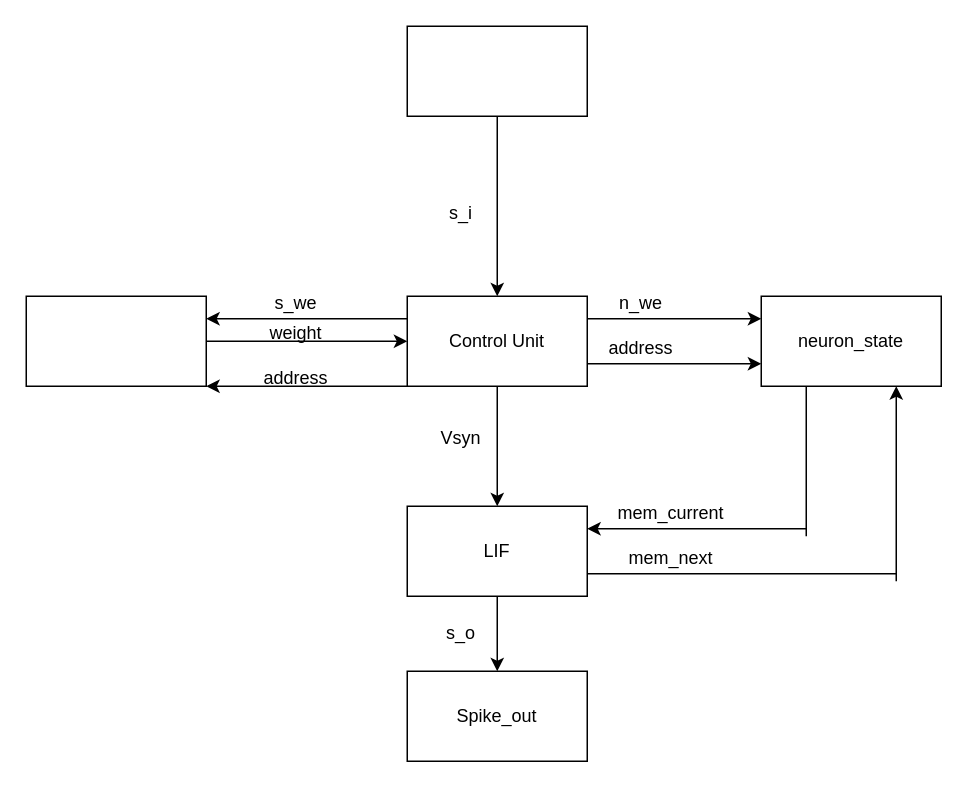
Some shapes in this 968 by 788 pixel diagram are drawn without their labels. The centre of each missing label's shape, as x and y in pixels:
"Spike_in" goes at (496,70).
"synapse_mem" goes at (115,340).
